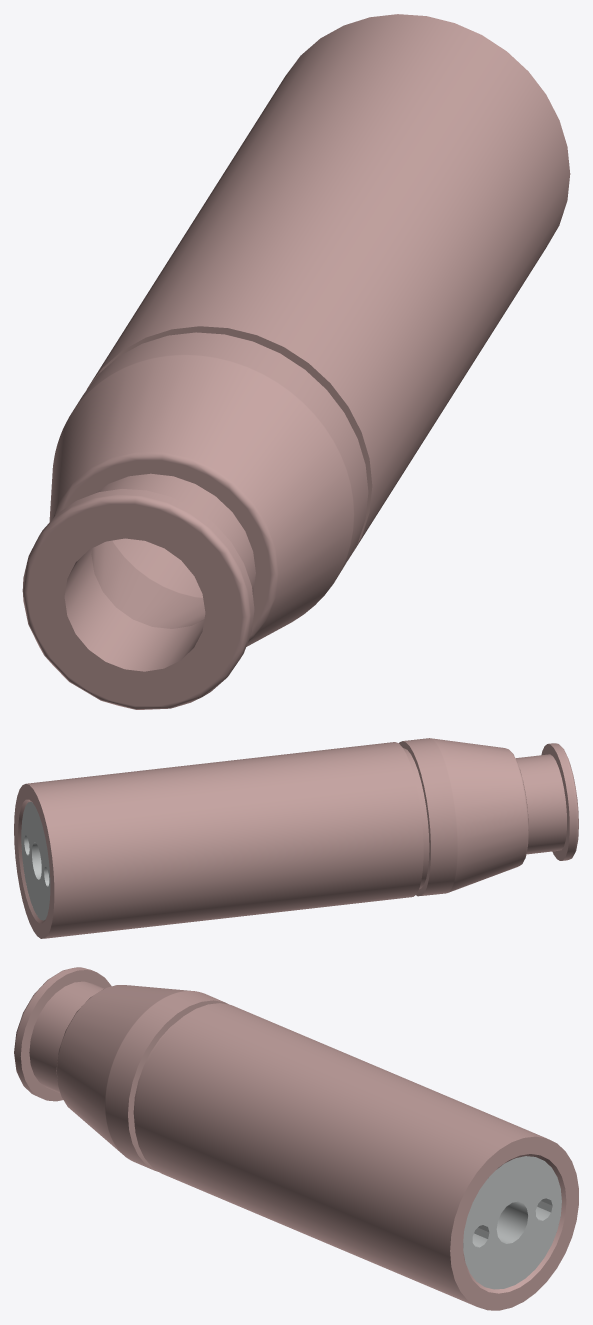
File: 10.2_truba-kontakta-tk-630.glb
The picture shows the model from 3 angles, top to bottom: view 1: azimuth 30°, elevation 25°; view 2: azimuth 150°, elevation 25°; view 3: azimuth 270°, elevation 25°; orthographic projection. The views are drawn at different scales.
Parts seen in each view (by area): view 1: 10.2_truba-kontakta-tk-630; view 2: 10.2_truba-kontakta-tk-630; view 3: 10.2_truba-kontakta-tk-630.
Part boxes in pixels (box(x1,y1,x2,y2)): 10.2_truba-kontakta-tk-630: box(22, 14, 570, 709); 10.2_truba-kontakta-tk-630: box(14, 738, 578, 938); 10.2_truba-kontakta-tk-630: box(14, 967, 578, 1310).
Size of the model in its own units: 0.1392 by 0.045 by 0.1391.
